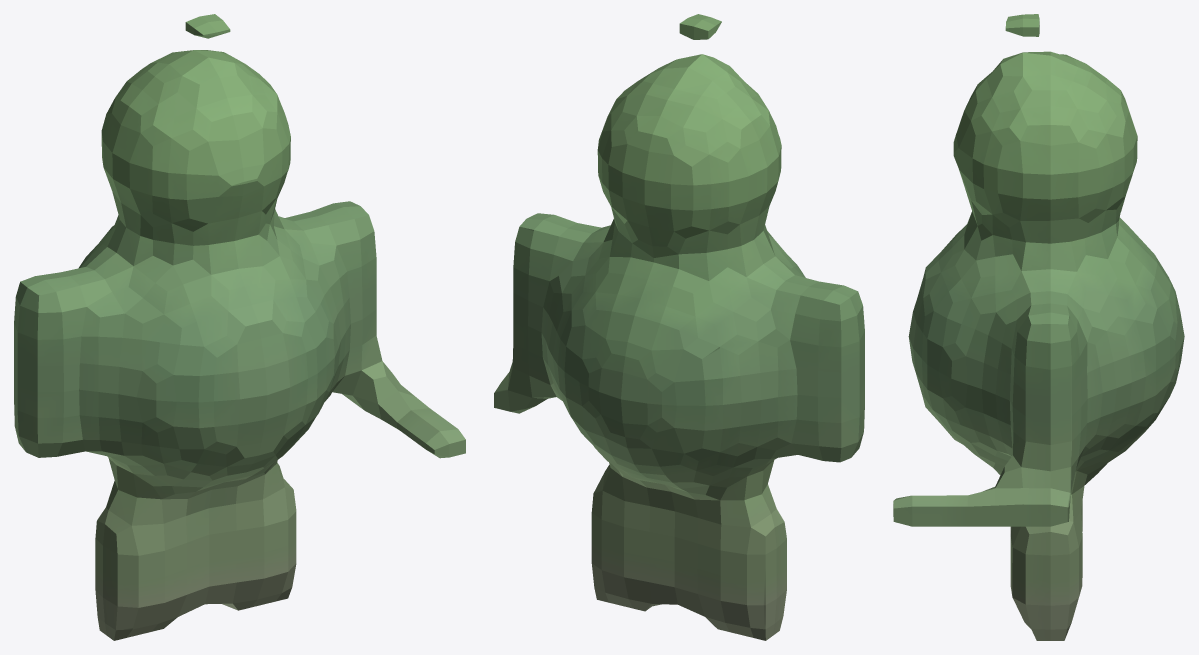
File: dokkaebiClub.glb
3 renders of one model, left to right at view 1: azimuth 30°, elevation 25°; view 2: azimuth 150°, elevation 25°; view 3: azimuth 270°, elevation 25°, orthographic. The views are drawn at different scales.
Parts seen in each view (by area): view 1: geometry_0; view 2: geometry_0; view 3: geometry_0.
Part boxes in pixels (x1=…): geometry_0: x1=14, y1=14, x2=465, y2=640; geometry_0: x1=494, y1=14, x2=864, y2=640; geometry_0: x1=893, y1=14, x2=1184, y2=640.
Size of the model in its own units: 0.6186 by 0.9654 by 0.4383.
1 material, 1 textured.
